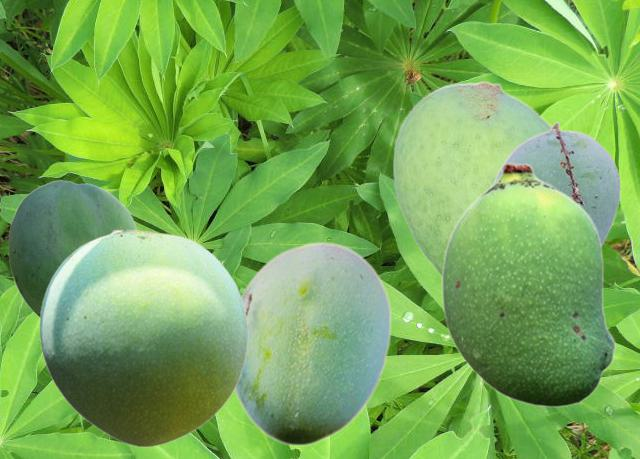green_mango: (39, 228, 247, 446), (441, 162, 615, 407), (233, 241, 391, 445), (393, 80, 551, 278), (8, 180, 137, 317), (491, 121, 620, 247)
